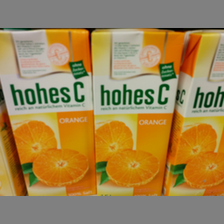juice: (90, 28, 187, 195), (1, 30, 97, 194), (165, 29, 223, 195)
